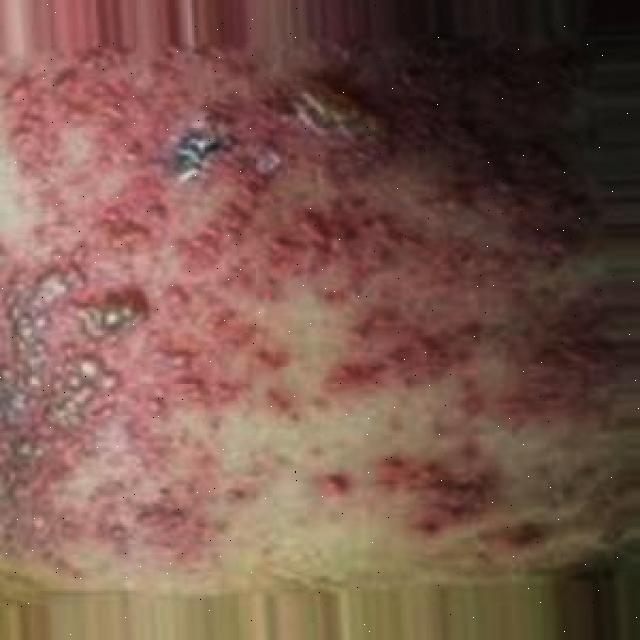Shingles: (0, 46, 640, 567)
